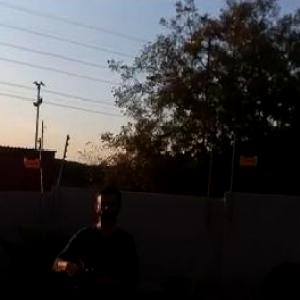follow: (46, 173, 142, 299)
